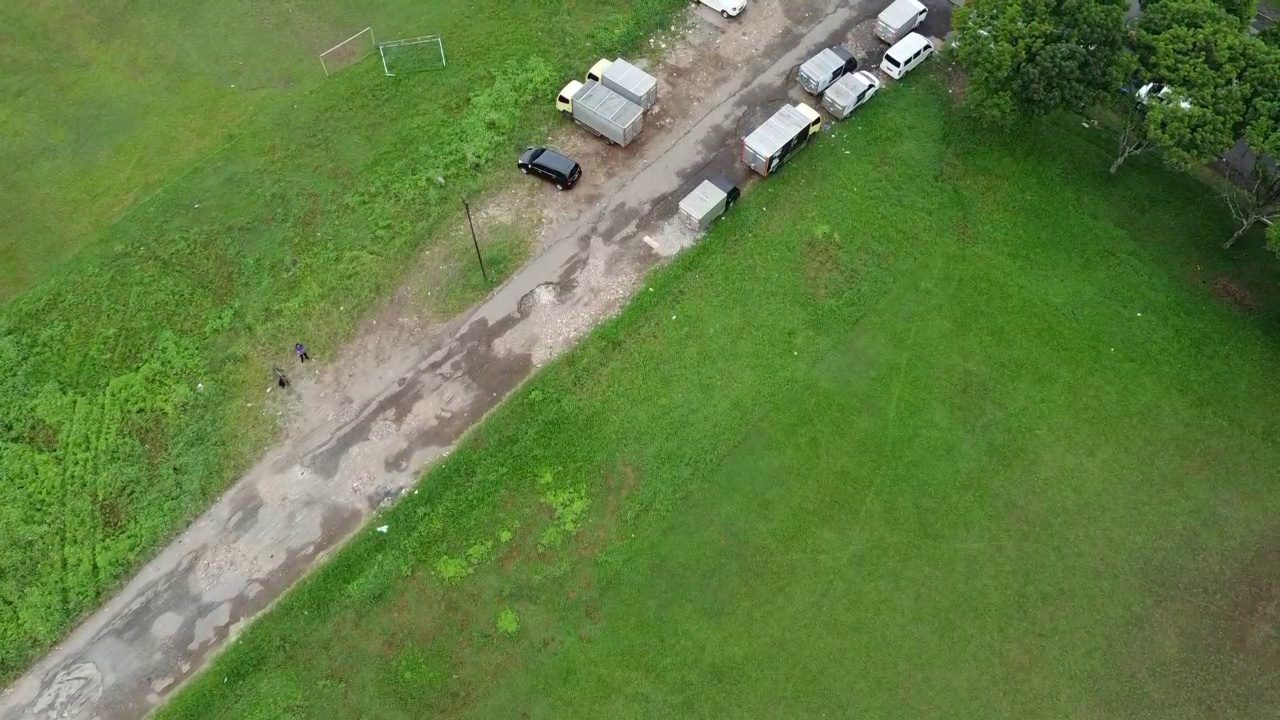mobil: (515, 139, 590, 193), (879, 33, 937, 80)
